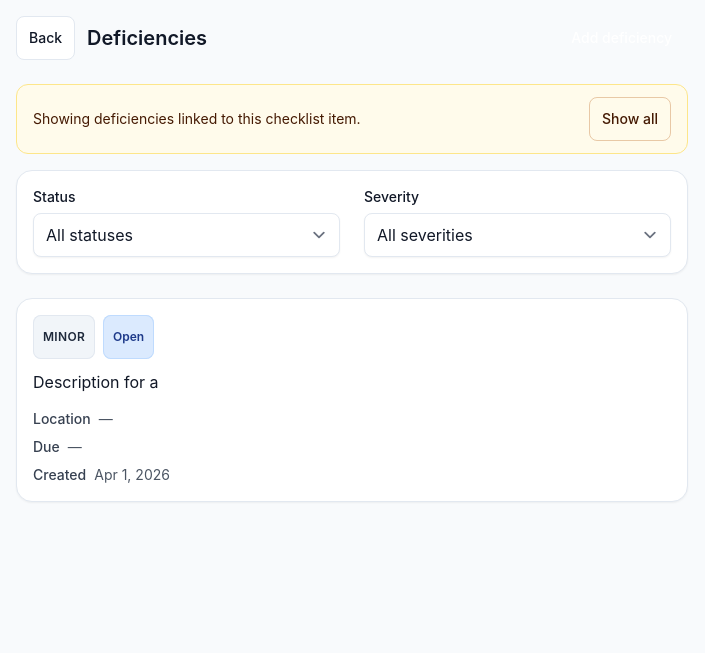
Test: DeficiencyListView › M6-S14 clears checklist item filter when Show all is used
Click the button with test id "deficiency-list-clear-checklist-filter". click: (630, 119)
box: [589,97,671,141]
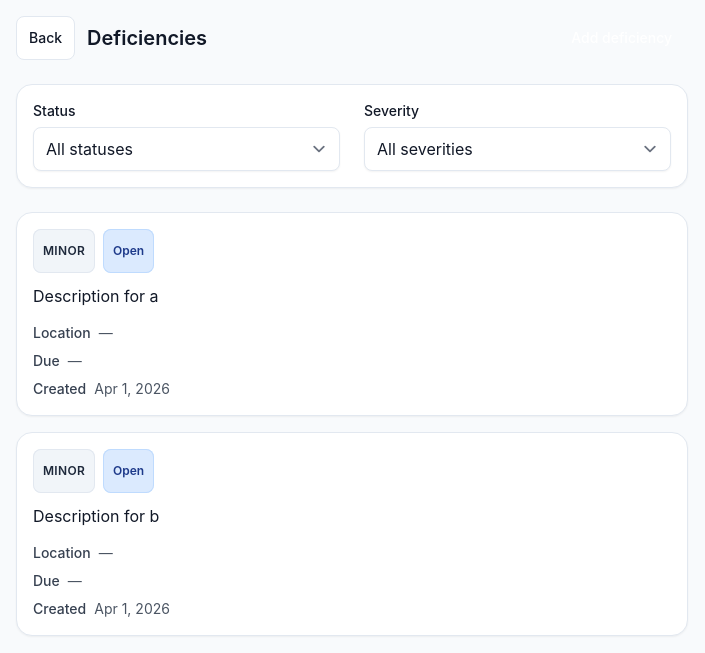
Expected: the list item with test id "deficiency-card-a" is shown, [16,212,688,416]
Expected: the list item with test id "deficiency-card-b" is shown, [16,432,688,636]
